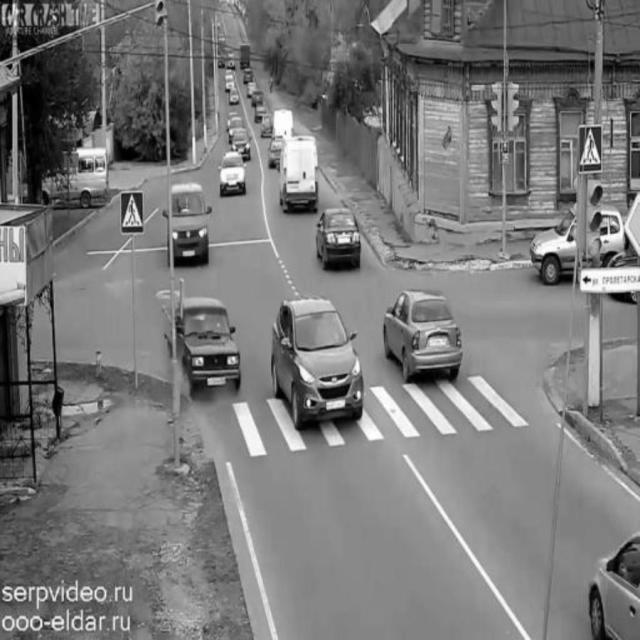vehicle: (267, 298, 368, 424), (384, 285, 462, 383), (163, 296, 241, 390), (533, 210, 629, 286), (588, 525, 640, 638), (43, 148, 113, 205), (166, 184, 210, 265), (313, 206, 365, 273), (278, 137, 319, 210), (218, 152, 248, 194), (230, 124, 250, 160), (266, 135, 286, 169), (238, 41, 254, 71), (259, 107, 273, 141), (248, 89, 268, 109), (224, 72, 236, 92)
